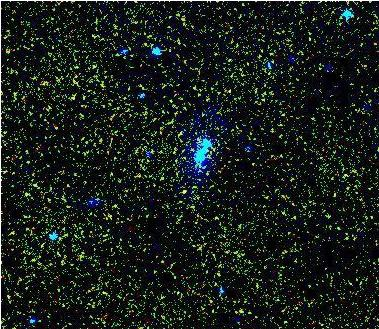star: (168, 180, 198, 210)
